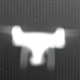plane: (1, 23, 79, 70)
